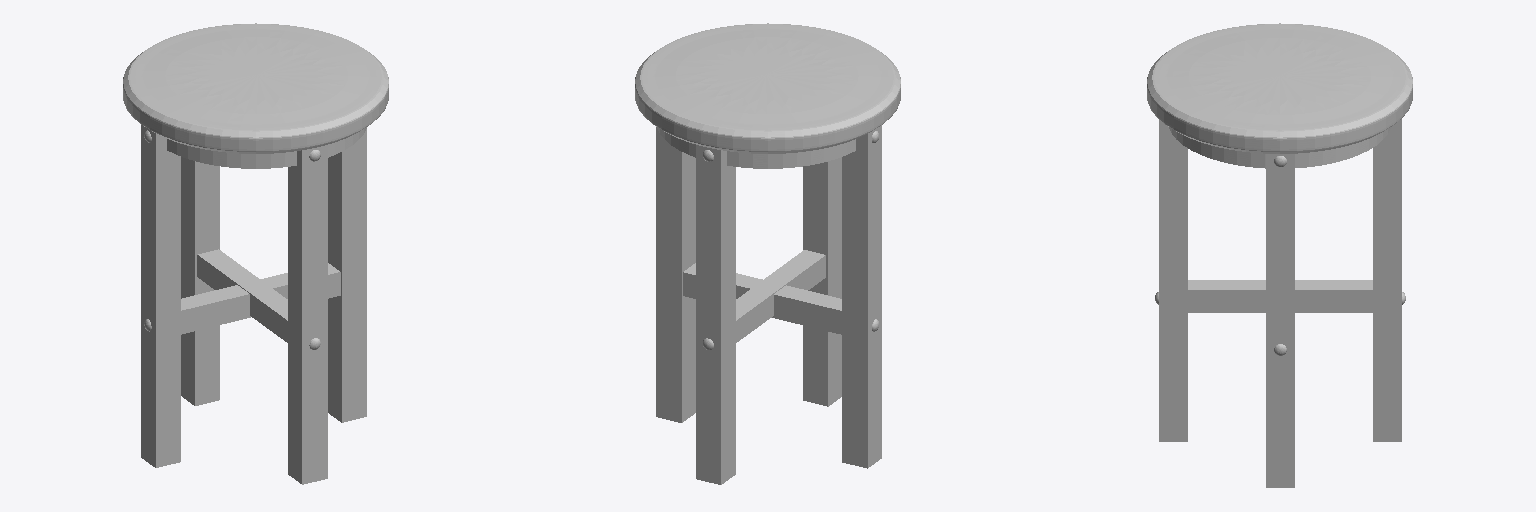
The model's file is wooden stool.obj.
3 views of the same model, side by side, from view 1: azimuth 30°, elevation 25°; view 2: azimuth 150°, elevation 25°; view 3: azimuth 270°, elevation 25° (orthographic).
Parts seen in each view (by area): view 1: Leg_Cube_008, Top_of_stool_Cylinder_001, truss_b_Cube_009, Stoll_top_support_Cylinder_005; view 2: Leg_Cube_008, Top_of_stool_Cylinder_001, truss_b_Cube_009, Stoll_top_support_Cylinder_005; view 3: Top_of_stool_Cylinder_001, Leg_Cube_008, truss_b_Cube_009, Stoll_top_support_Cylinder_005.
Part boxes in pixels (left/top/right/bottom): Leg_Cube_008: left=141, top=125, right=366, bottom=484; Top_of_stool_Cylinder_001: left=123, top=23, right=388, bottom=153; truss_b_Cube_009: left=181, top=249, right=340, bottom=342; Stoll_top_support_Cylinder_005: left=167, top=127, right=366, bottom=168; Leg_Cube_008: left=656, top=125, right=881, bottom=484; Top_of_stool_Cylinder_001: left=635, top=23, right=900, bottom=153; truss_b_Cube_009: left=683, top=250, right=841, bottom=342; Stoll_top_support_Cylinder_005: left=657, top=127, right=855, bottom=168; Top_of_stool_Cylinder_001: left=1147, top=23, right=1412, bottom=153; Leg_Cube_008: left=1159, top=119, right=1401, bottom=487; truss_b_Cube_009: left=1188, top=280, right=1372, bottom=312; Stoll_top_support_Cylinder_005: left=1169, top=127, right=1390, bottom=168.
Bounding box in the file's own units: 2.57 × 3.84 × 2.57.